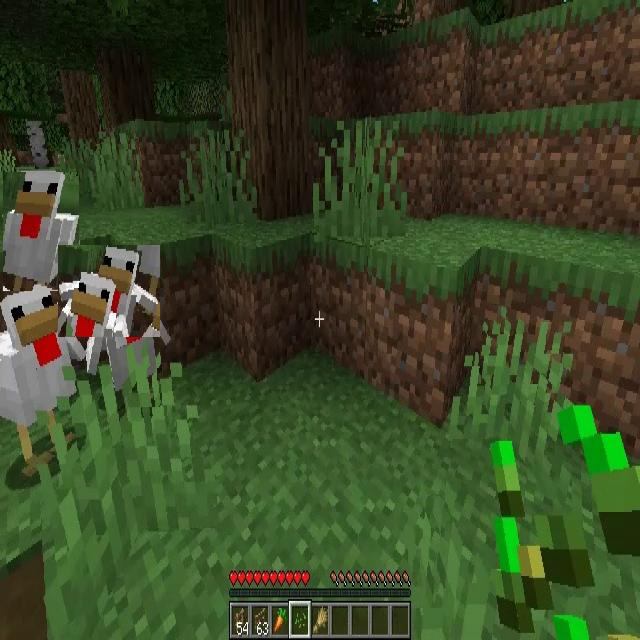duck: (0, 286, 83, 466), (86, 278, 166, 408), (58, 245, 160, 337), (3, 172, 79, 291)
